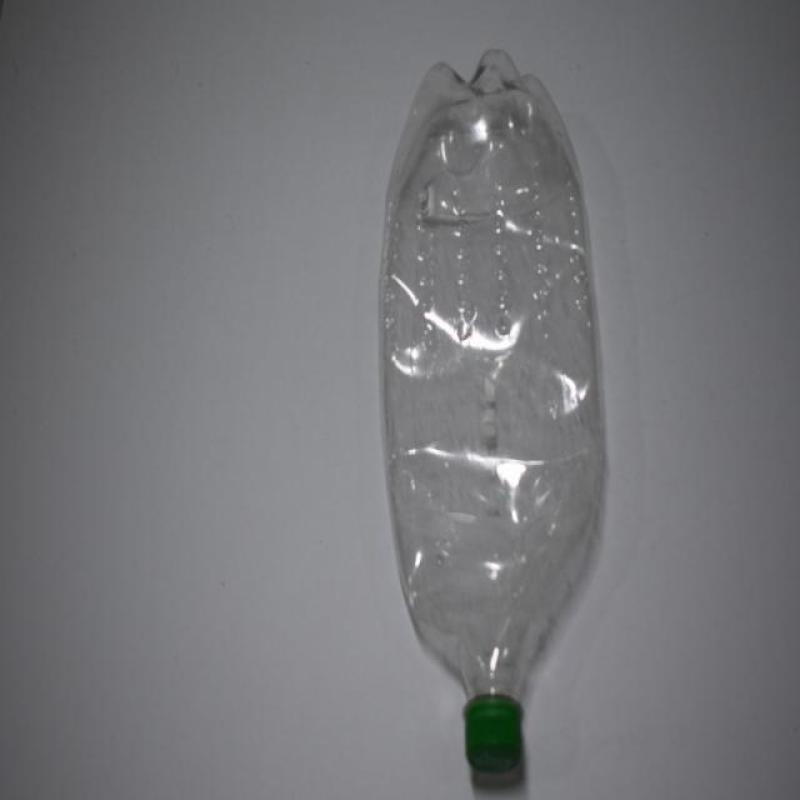botella: (381, 49, 607, 775)
